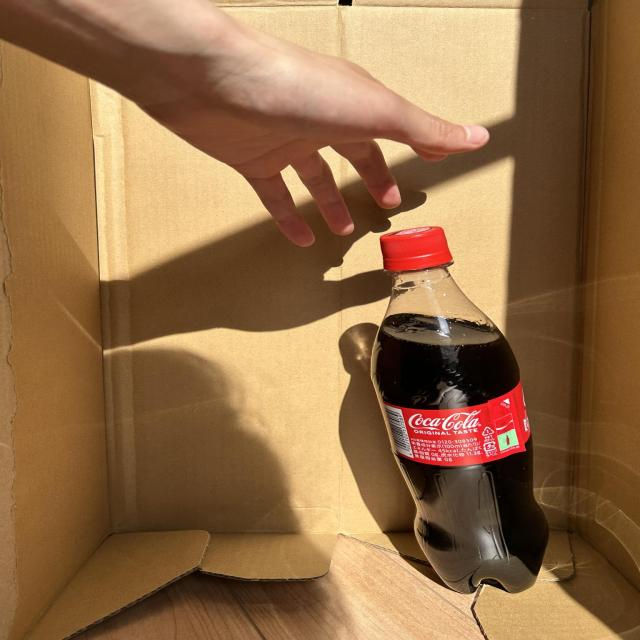high: (371, 226, 548, 593)
